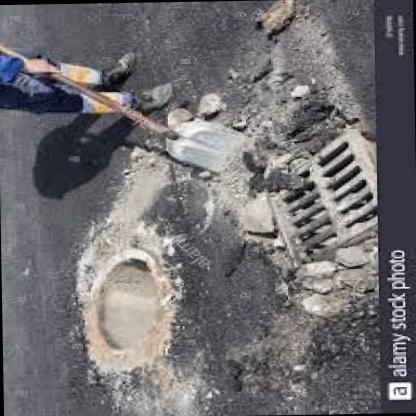manholes: (61, 229, 189, 369)
